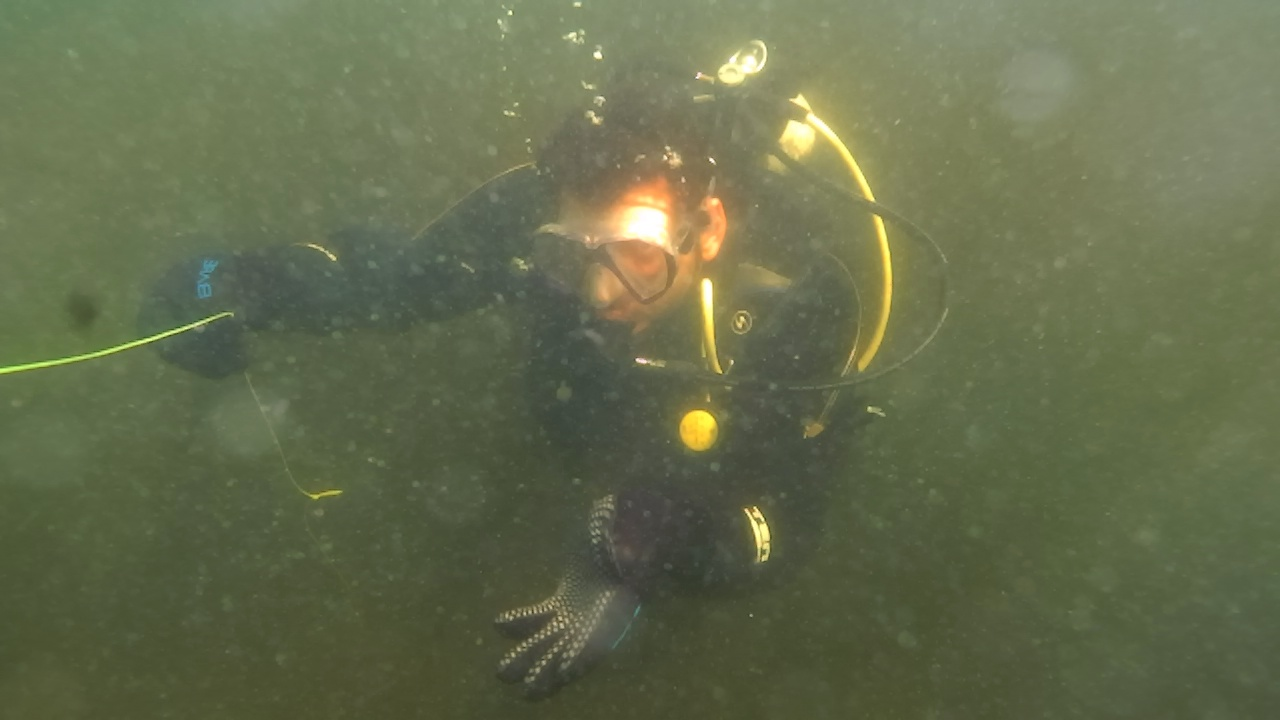Diver: (126, 36, 926, 696)
Hand: (486, 484, 676, 690), (134, 236, 304, 398)
Head: (528, 92, 736, 362)
